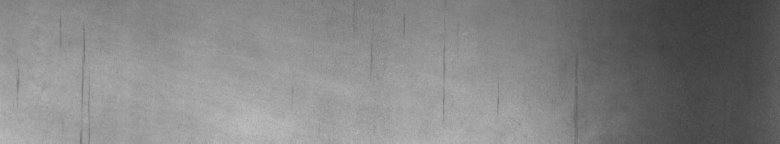ka: (17, 39, 90, 112)
